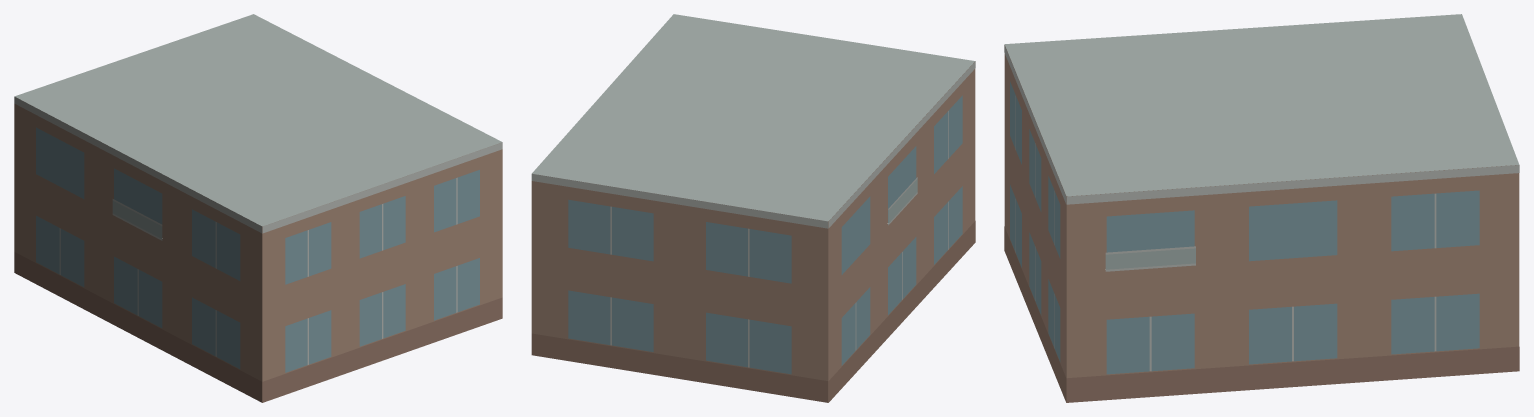
The model's file is survey-upis-32746691.glb.
3 views of the same model, side by side, from view 1: azimuth 30°, elevation 25°; view 2: azimuth 150°, elevation 25°; view 3: azimuth 270°, elevation 25° (orthographic). The views are drawn at different scales.
Parts seen in each view (by area): view 1: survey-upis-32746691.tmp; view 2: survey-upis-32746691.tmp; view 3: survey-upis-32746691.tmp.
Part boxes in pixels (x1=…): survey-upis-32746691.tmp: x1=14, y1=14, x2=502, y2=402; survey-upis-32746691.tmp: x1=531, y1=14, x2=975, y2=402; survey-upis-32746691.tmp: x1=1004, y1=14, x2=1519, y2=402.
Bounding box in the file's own units: 11.57 × 6.1 × 13.8.
